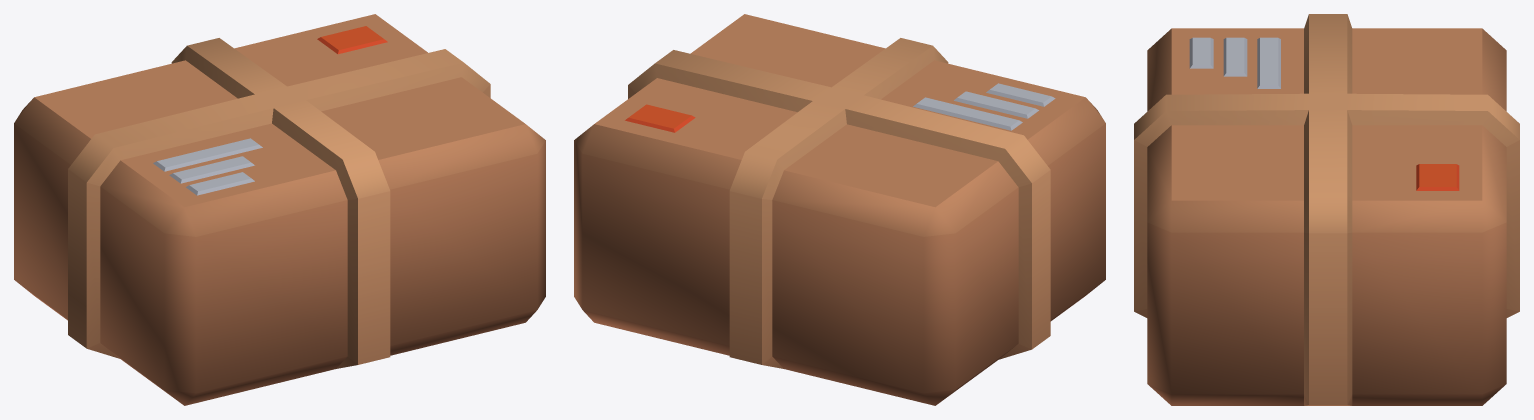
Rendered from package.gltf.
3 renders of one model, left to right at view 1: azimuth 30°, elevation 25°; view 2: azimuth 150°, elevation 25°; view 3: azimuth 270°, elevation 25°, orthographic. The views are drawn at different scales.
Visible parts, largest first — view 1: package; view 2: package; view 3: package.
Boxes of the visible parts, <box> form: package: <box>14,14,545,405</box>; package: <box>574,14,1105,405</box>; package: <box>1134,14,1519,405</box>.
Bounding box in the file's own units: 1 × 0.5 × 0.8.
Materials: 1 (1 with a texture image).
